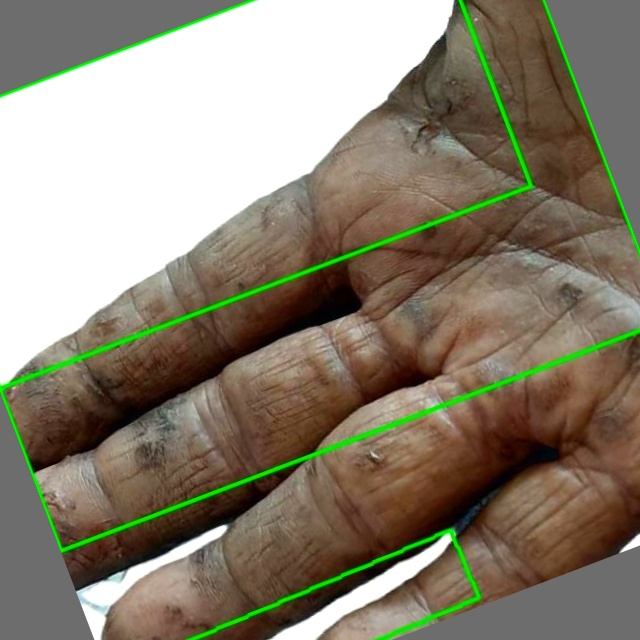Eczema: (0, 0, 639, 550), (0, 0, 531, 388)
